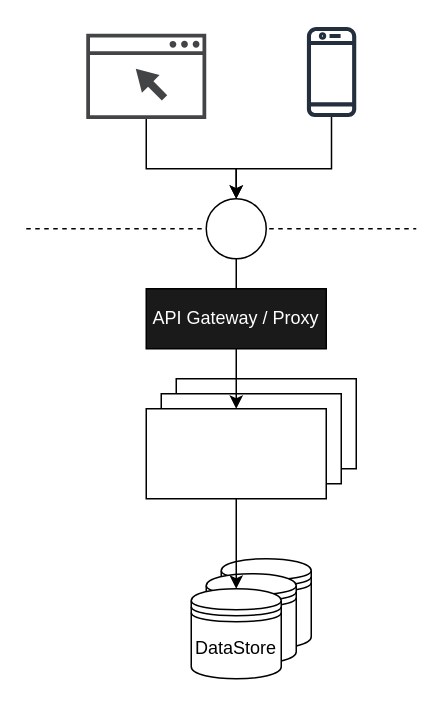
The diagram is 444 pixels wide and 707 high, and some of its shapes have lost their labels. Here are the shapes that lost their labels. From the top down, the centre of each, then its label:
the point at 235,228: LB
the point at 235,453: /api/v1/recipe
